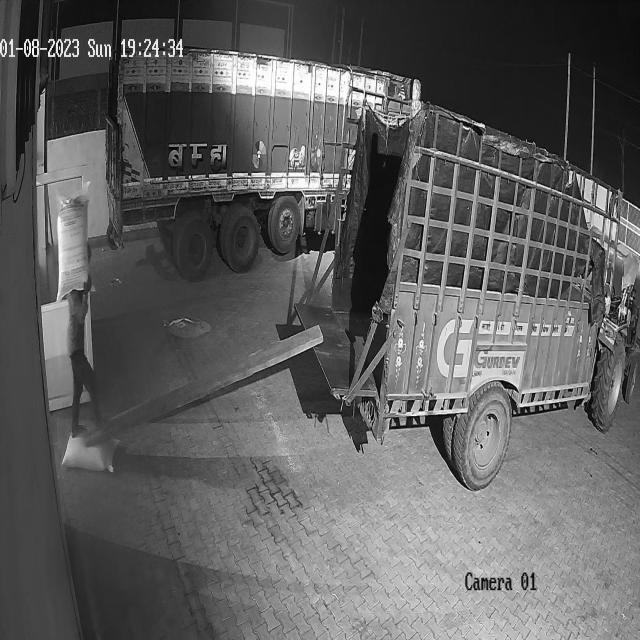sack: (56, 183, 95, 302), (62, 430, 119, 472)
